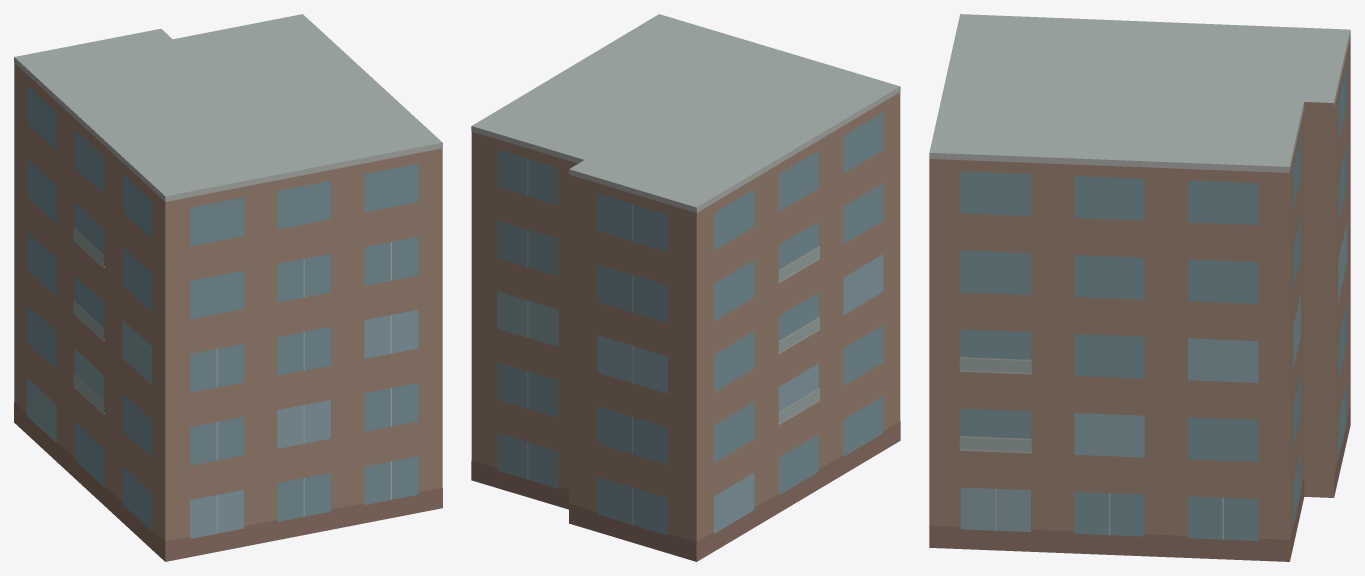
Rendered from survey-upis-33037974.glb.
3 renders of one model, left to right at view 1: azimuth 30°, elevation 25°; view 2: azimuth 150°, elevation 25°; view 3: azimuth 270°, elevation 25°, orthographic. The views are drawn at different scales.
Visible parts, largest first — view 1: survey-upis-33037974.tmp; view 2: survey-upis-33037974.tmp; view 3: survey-upis-33037974.tmp.
Part boxes in pixels (x1=…): survey-upis-33037974.tmp: x1=14, y1=14, x2=442, y2=561; survey-upis-33037974.tmp: x1=471, y1=14, x2=900, y2=561; survey-upis-33037974.tmp: x1=929, y1=14, x2=1350, y2=561.
Bounding box in the file's own units: 13.17 × 15.85 × 15.33.
